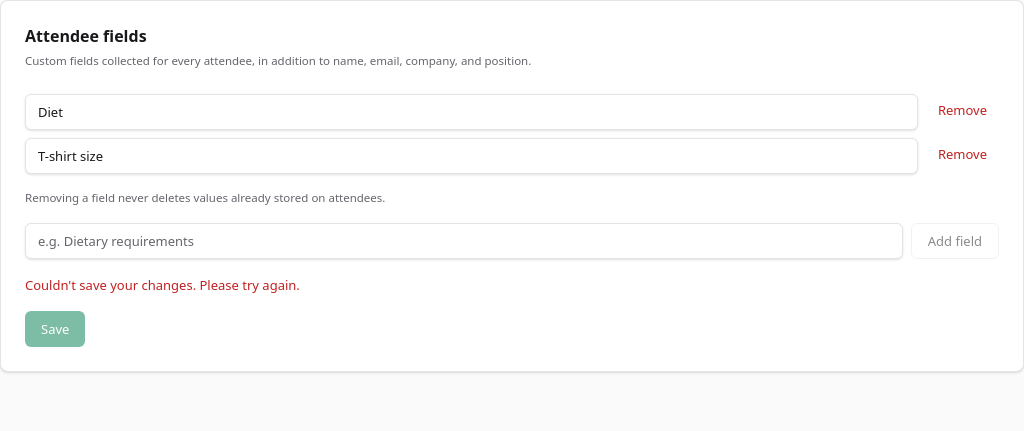
Test: AttendeeFieldsCard › disables Save and shows a duplicate error on BOTH rows when two fields share a name case-insensitively
Replace the text in the field showing "T-shirt size" with "DIET": (471, 156) left=25, top=138, right=918, bottom=174
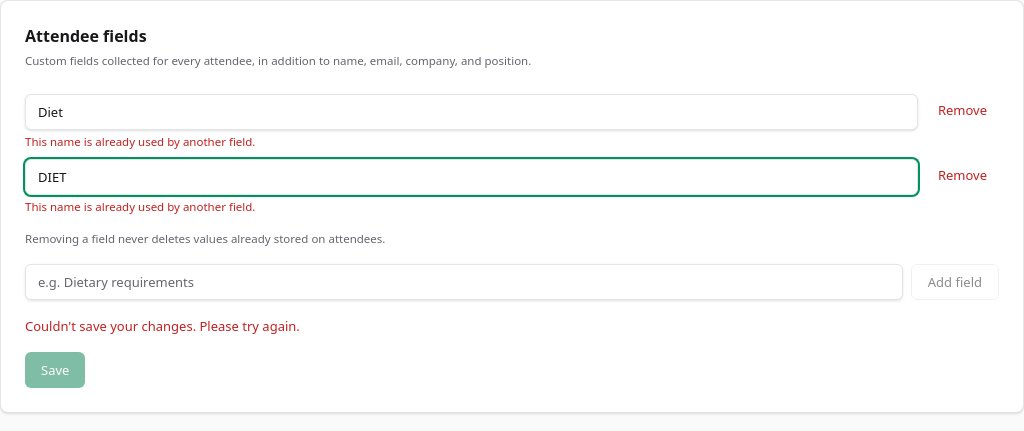
Expected: the button "Save" is disabled, left=25, top=352, right=85, bottom=388
Expected: the text "This name is already used by another field." is shown 2 times, left=25, top=134, right=255, bottom=149; left=25, top=199, right=255, bottom=214
